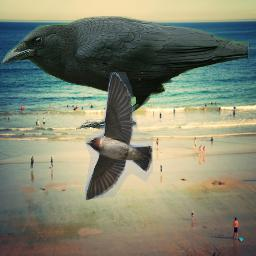Crow: (1, 16, 250, 132)
Swallow: (85, 72, 153, 201)
